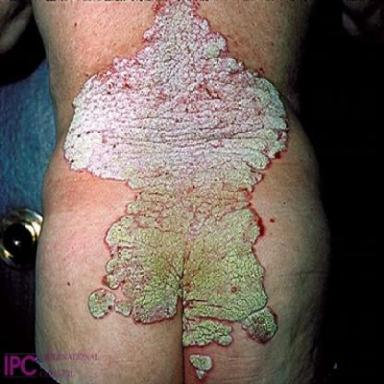Psoriasis: (62, 0, 289, 348), (188, 354, 214, 380)
